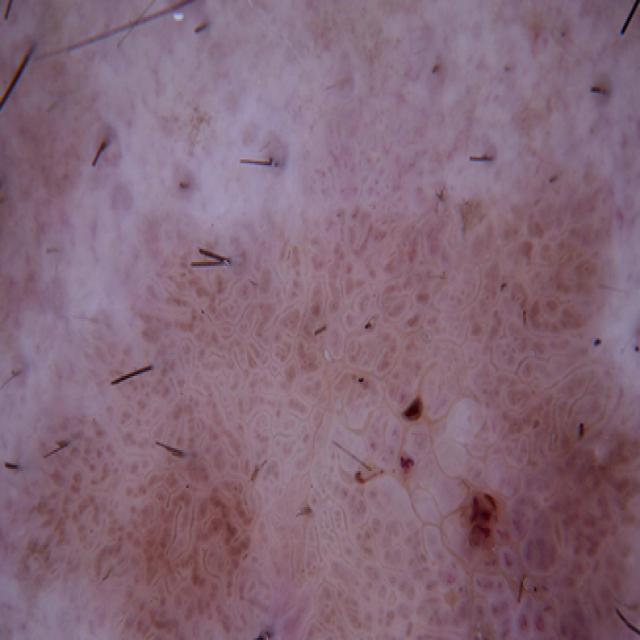Keratosis: (429, 146, 640, 640), (211, 190, 508, 539), (8, 330, 248, 640), (260, 471, 527, 640)
